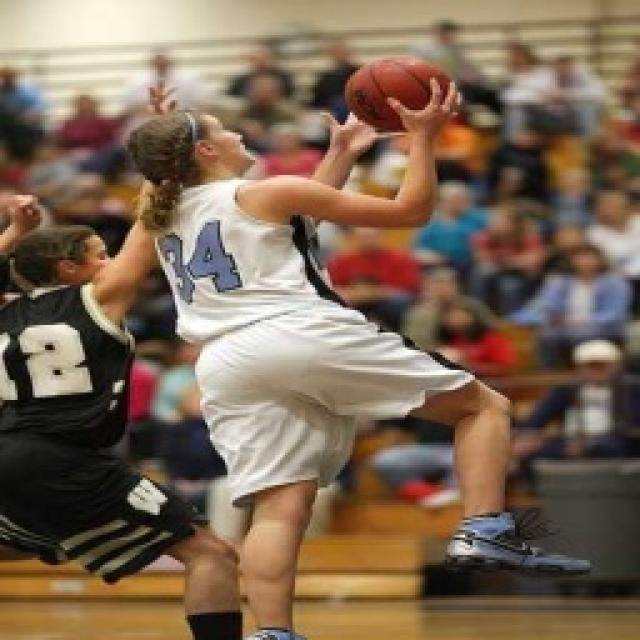rim: (348, 48, 452, 130)
